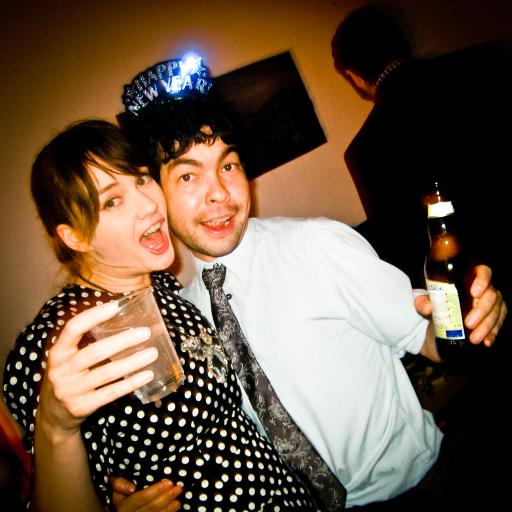Person: (124, 48, 470, 501), (11, 110, 305, 512)
no_gloves: (381, 262, 507, 374), (31, 315, 157, 427), (103, 469, 188, 512)
no_goggle: (92, 172, 170, 218), (165, 164, 244, 185)
no_helmet: (115, 85, 242, 145), (28, 116, 154, 176)
none: (180, 236, 446, 492), (20, 281, 254, 485)
